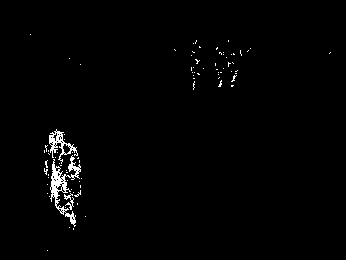person: (43, 130, 81, 229)
